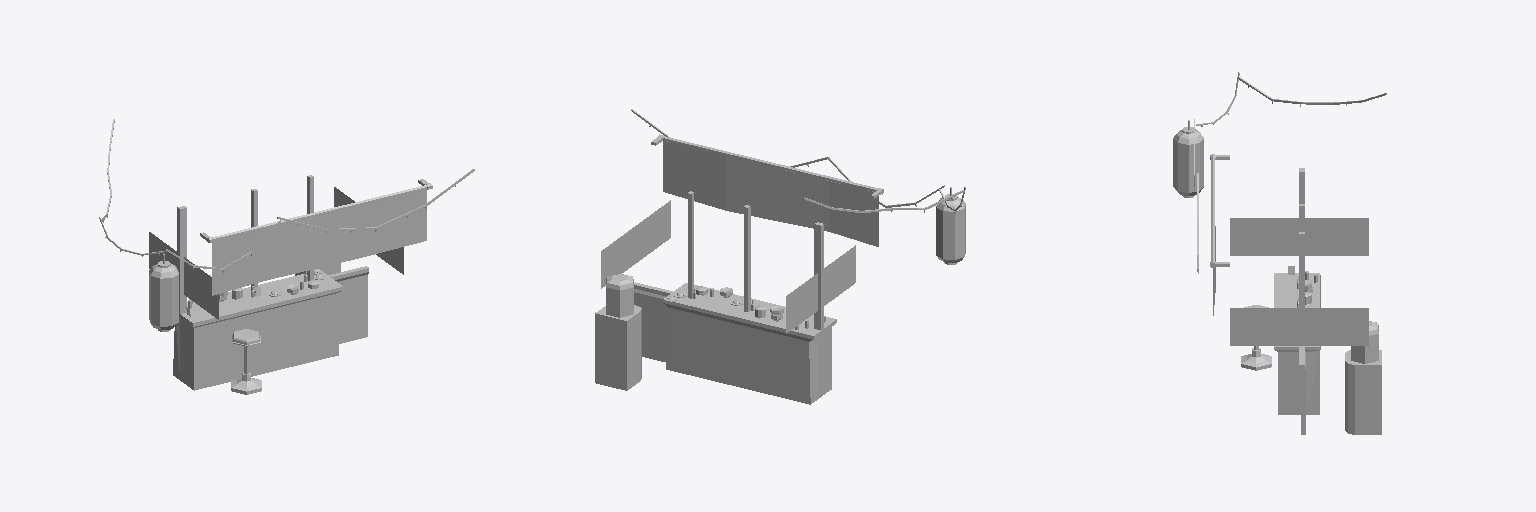
The model's file is interior1.obj.
The picture shows the model from 3 angles: view 1: azimuth 30°, elevation 25°; view 2: azimuth 150°, elevation 25°; view 3: azimuth 270°, elevation 25°; orthographic projection.
Visible parts, largest first — view 1: Bardeco_2, Banner_2; view 2: Bardeco_2, Banner_2; view 3: Bardeco_2, Banner_2.
Part boxes in pixels (left/top/right/bottom): Bardeco_2: left=99, top=119, right=474, bottom=394; Banner_2: left=149, top=187, right=426, bottom=319; Bardeco_2: left=595, top=109, right=965, bottom=404; Banner_2: left=601, top=141, right=878, bottom=333; Bardeco_2: left=1173, top=72, right=1386, bottom=434; Banner_2: left=1213, top=218, right=1368, bottom=345.
Size of the model in its own units: 14.31 by 9.21 by 7.46.